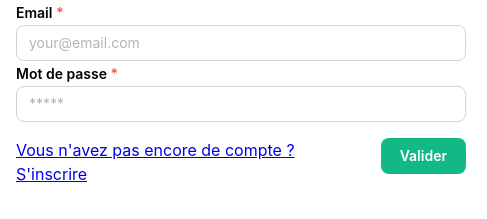
Test: le composant SigninForm › affiche l'erreur d'email invalide et n'appelle pas handleSignin si l'email est mal formé
The image size is (487, 219).
Type "pasunemail" into the field labelled "Email *" at x=241, y=43, box left=16, top=25, right=466, bottom=61
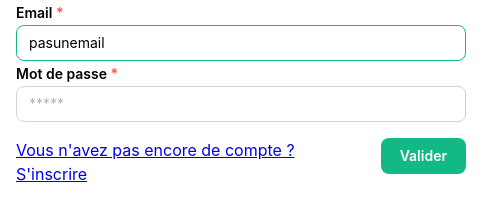
Type "secret123" into the password field labelled "Mot de passe *" at x=241, y=104, box left=16, top=86, right=466, bottom=122
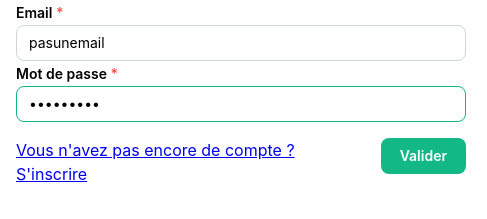
Click the button "Valider" at x=423, y=156, box left=381, top=138, right=466, bottom=174
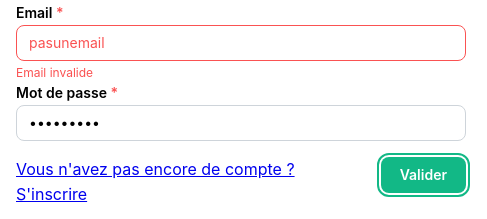
expect the text "Email invalide" is shown: met, box left=16, top=65, right=93, bottom=80
